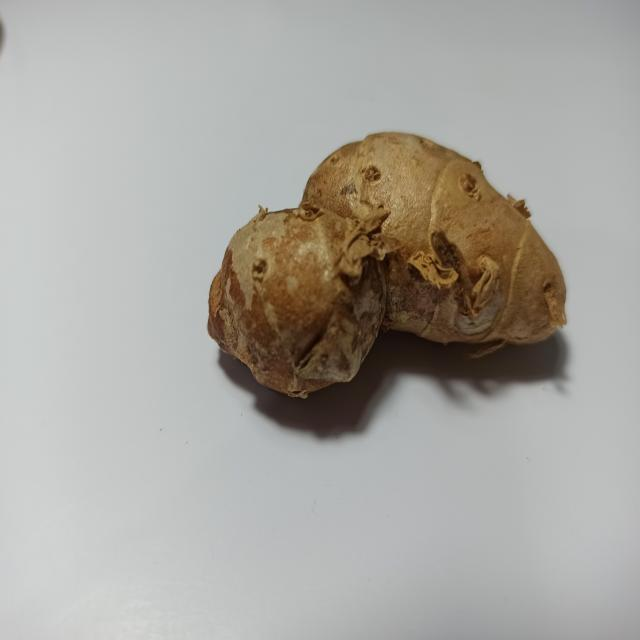ginger: (212, 126, 558, 416)
